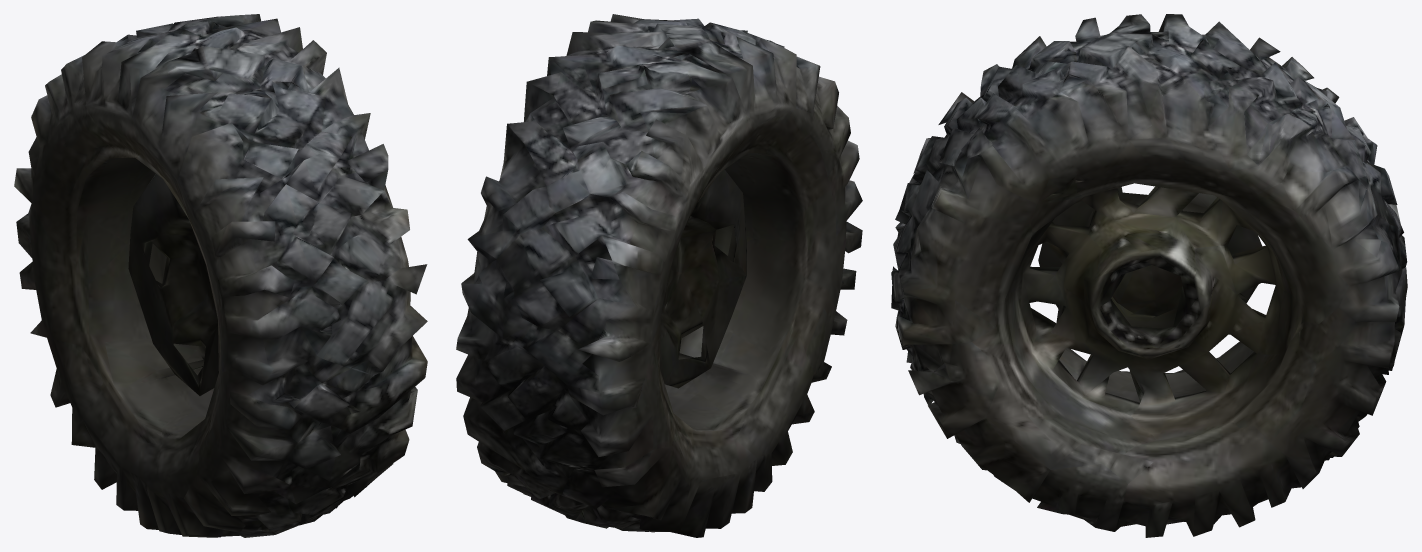
The picture shows the model from 3 angles, left to right: view 1: azimuth 30°, elevation 25°; view 2: azimuth 150°, elevation 25°; view 3: azimuth 270°, elevation 25°; orthographic projection.
Visible parts, largest first — view 1: tripo_node_83914a80-254d-4206-a9cc-1dae5ca5c6ed; view 2: tripo_node_83914a80-254d-4206-a9cc-1dae5ca5c6ed; view 3: tripo_node_83914a80-254d-4206-a9cc-1dae5ca5c6ed.
Part boxes in pixels (x1=…): tripo_node_83914a80-254d-4206-a9cc-1dae5ca5c6ed: x1=14, y1=14, x2=427, y2=537; tripo_node_83914a80-254d-4206-a9cc-1dae5ca5c6ed: x1=456, y1=14, x2=862, y2=537; tripo_node_83914a80-254d-4206-a9cc-1dae5ca5c6ed: x1=891, y1=14, x2=1407, y2=537.
Bounding box in the file's own units: 0.3991 × 0.9779 × 0.9749.
Materials: 1 (1 with a texture image).
